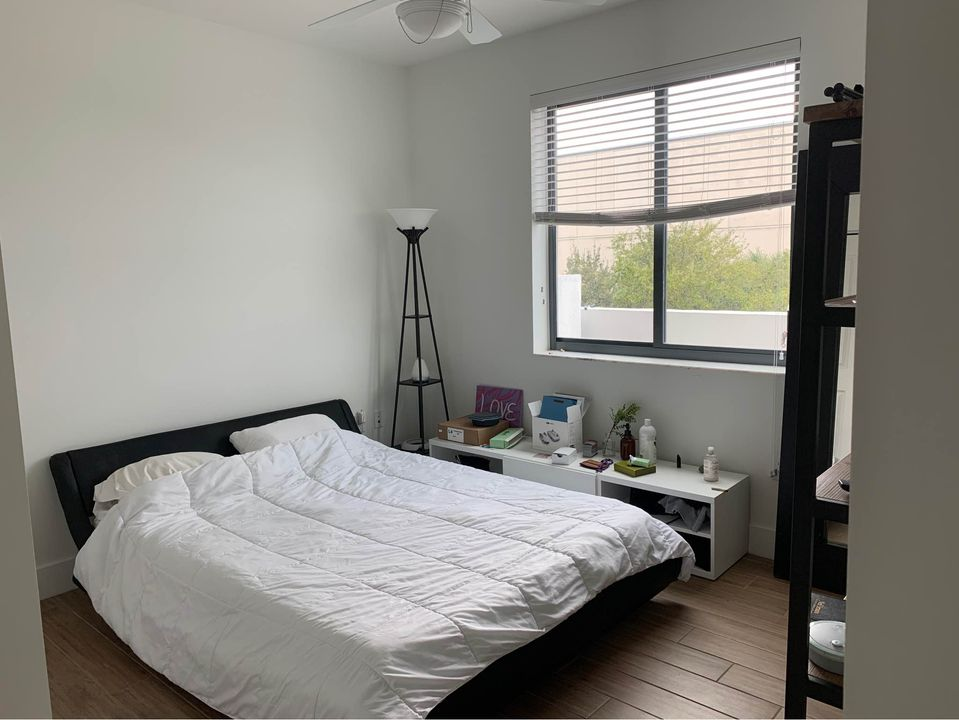bed: (53, 401, 680, 720)
